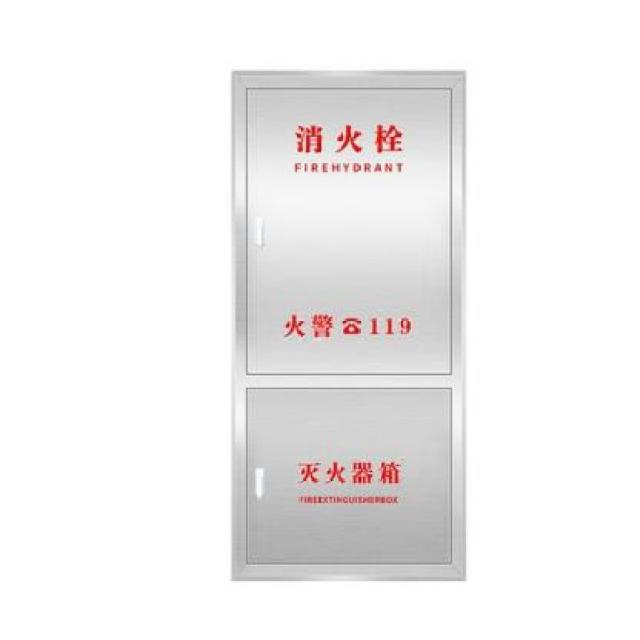firehydrant: (223, 65, 472, 586)
